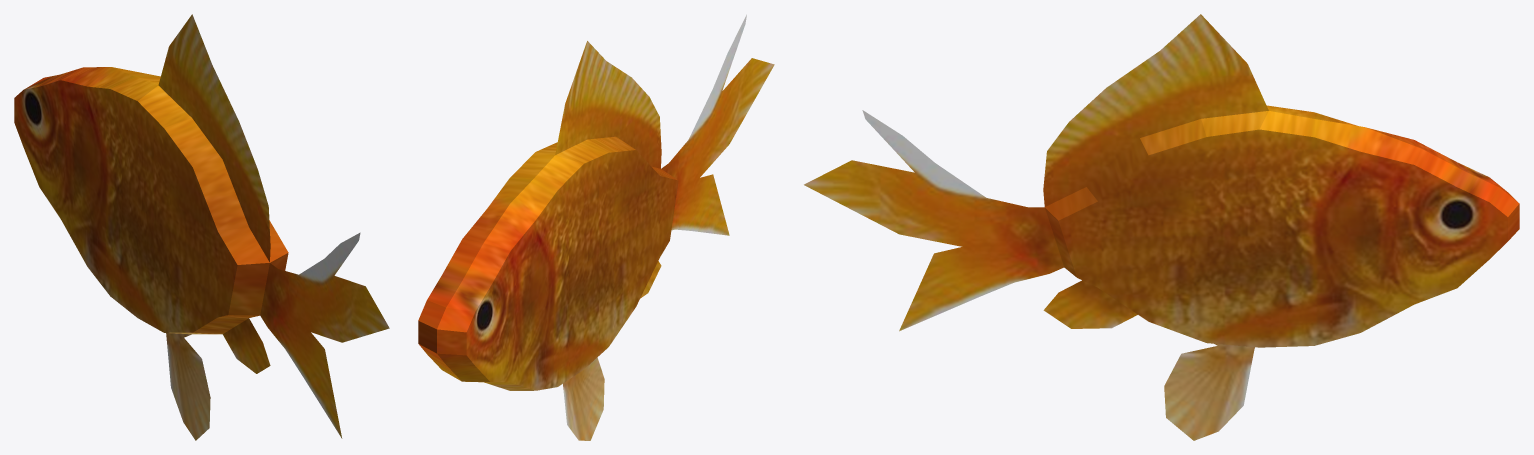
The model's file is P_Tueftenbachus.fbx.
The picture shows the model from 3 angles, left to right: view 1: azimuth 30°, elevation 25°; view 2: azimuth 150°, elevation 25°; view 3: azimuth 270°, elevation 25°; orthographic projection. The views are drawn at different scales.
Visible parts, largest first — view 1: Plane; view 2: Plane; view 3: Plane.
Boxes of the visible parts, bbox=[...] form: Plane: bbox=[14, 14, 389, 440]; Plane: bbox=[418, 14, 774, 440]; Plane: bbox=[804, 14, 1519, 440].
Bounding box in the file's own units: 36.44 × 290 × 440.
